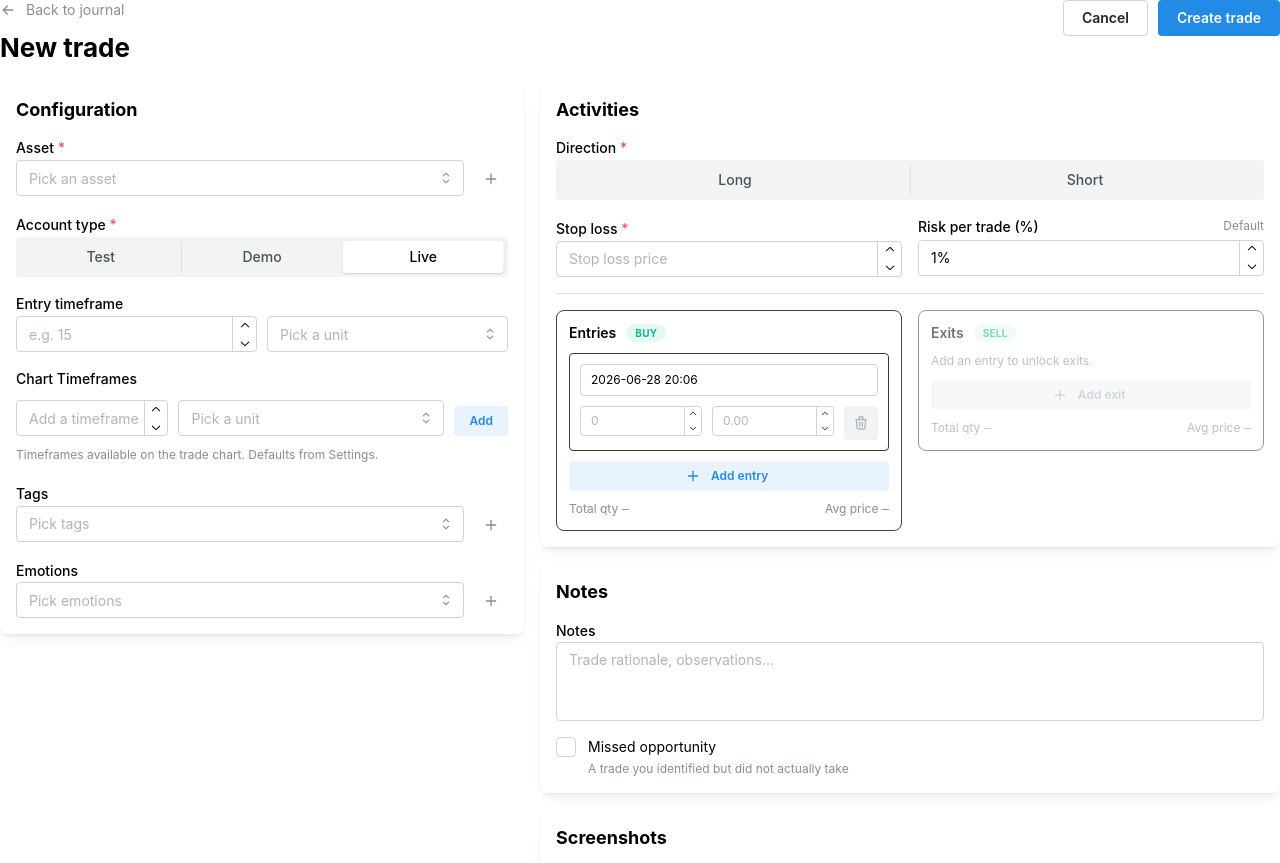
TradeFormPage — inline reference-data creation › creates an emotion inline and adds it to the selection
Expected: the heading "New trade" is shown, [0,30,130,65]
Step 1. Click the button named "Add emotion" → (491, 601), box [474,584,508,618]
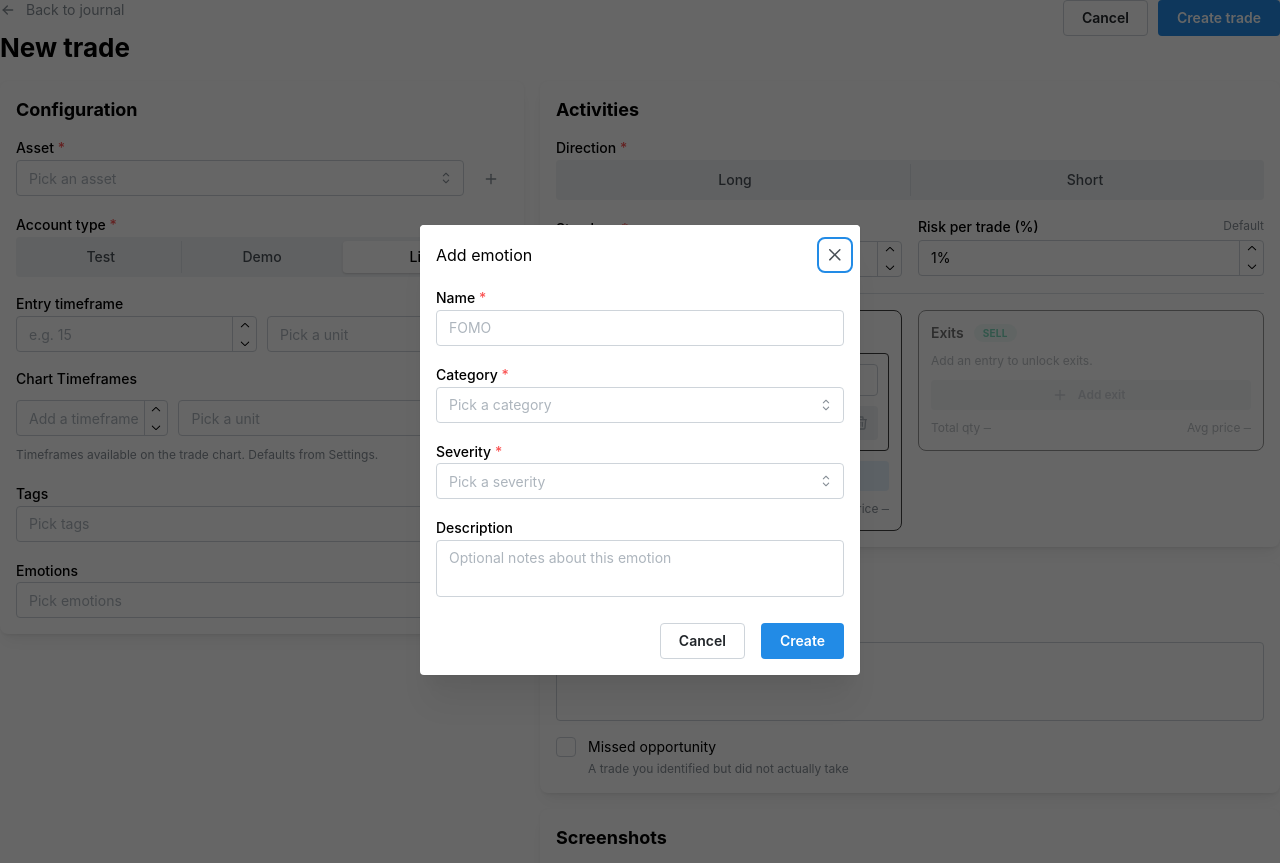
Step 2. Type "Revenge" into the field labelled "Name" → (640, 328), box [436,310,844,346]
Step 3. Click the field with placeholder "Pick a category" → (640, 404), box [436,386,844,422]
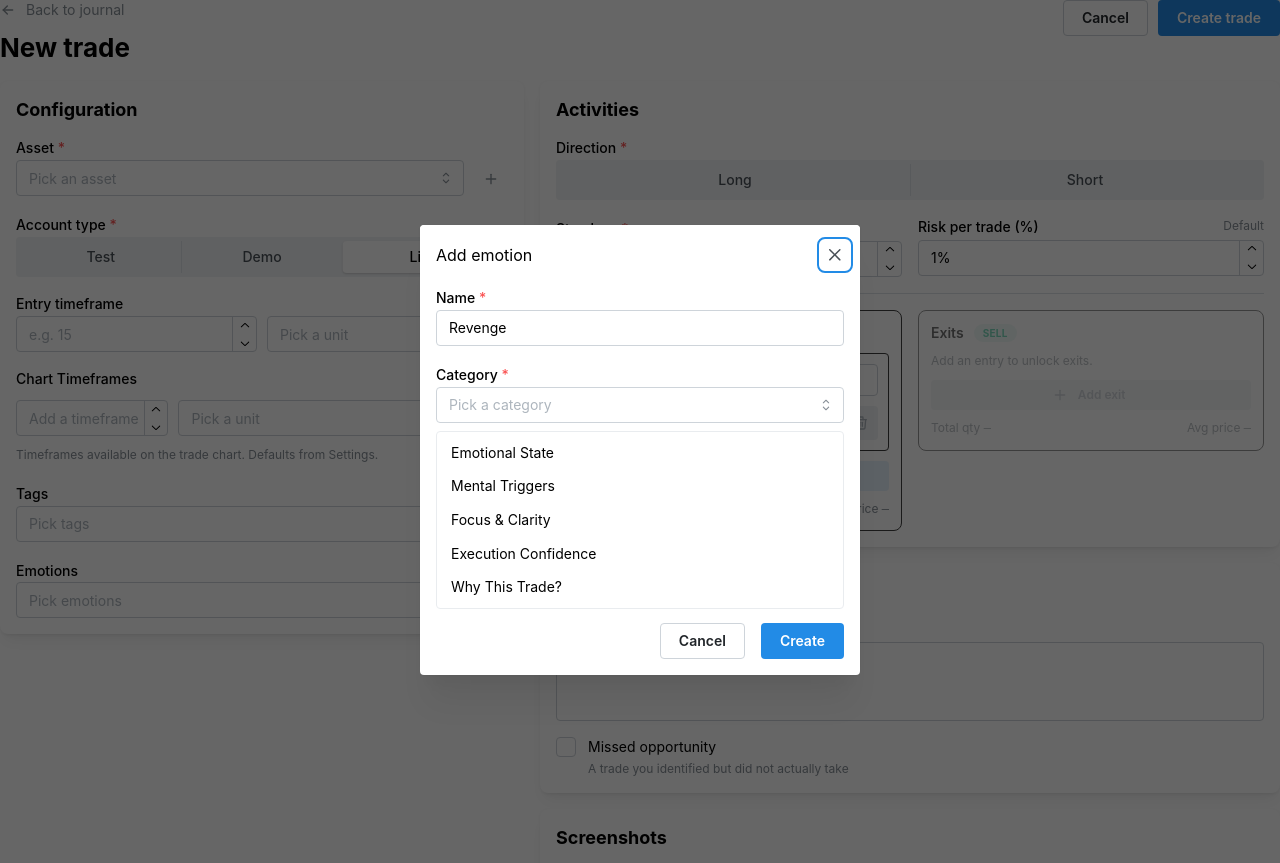
Step 4. Click the option "Mental Triggers" → (503, 486), box [451,477,555,494]
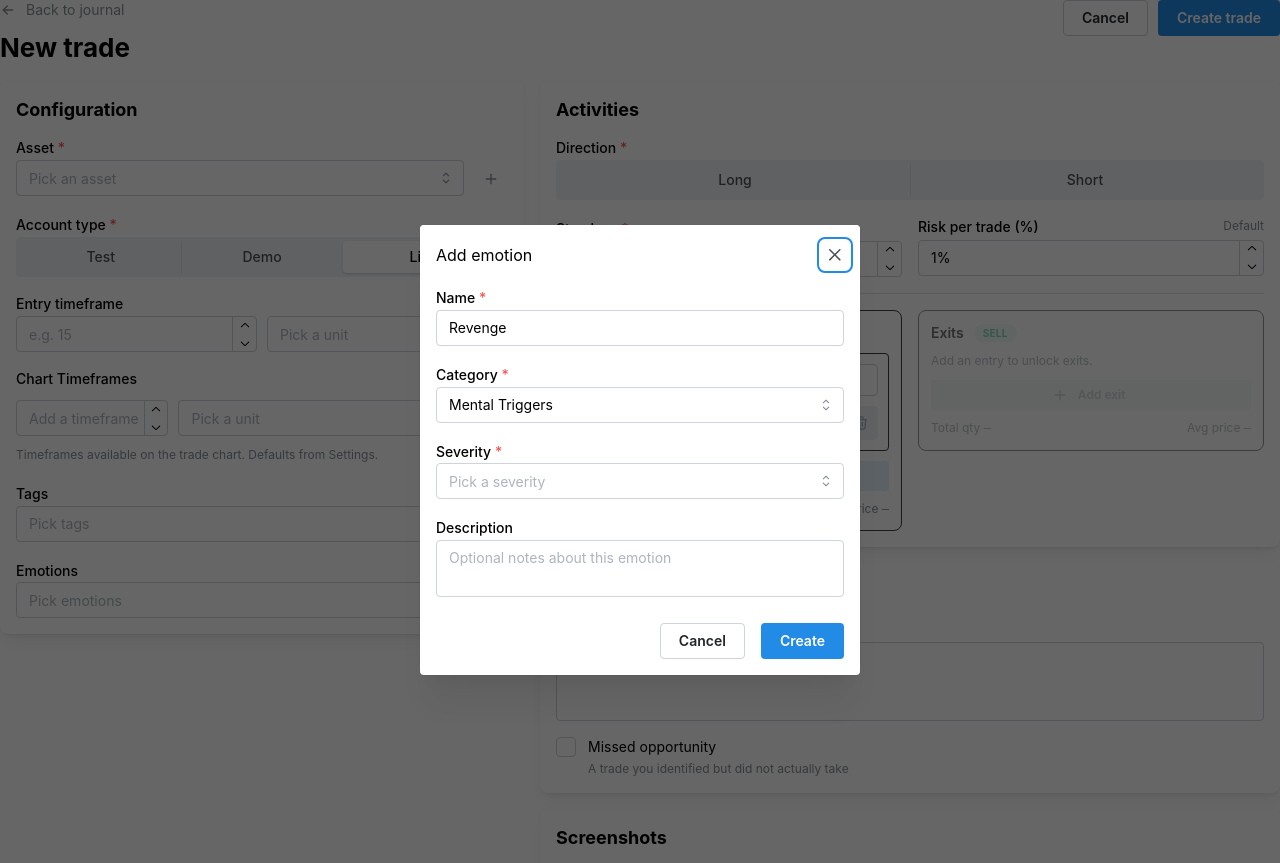
Step 5. Click the field with placeholder "Pick a severity" → (640, 481), box [436,463,844,499]
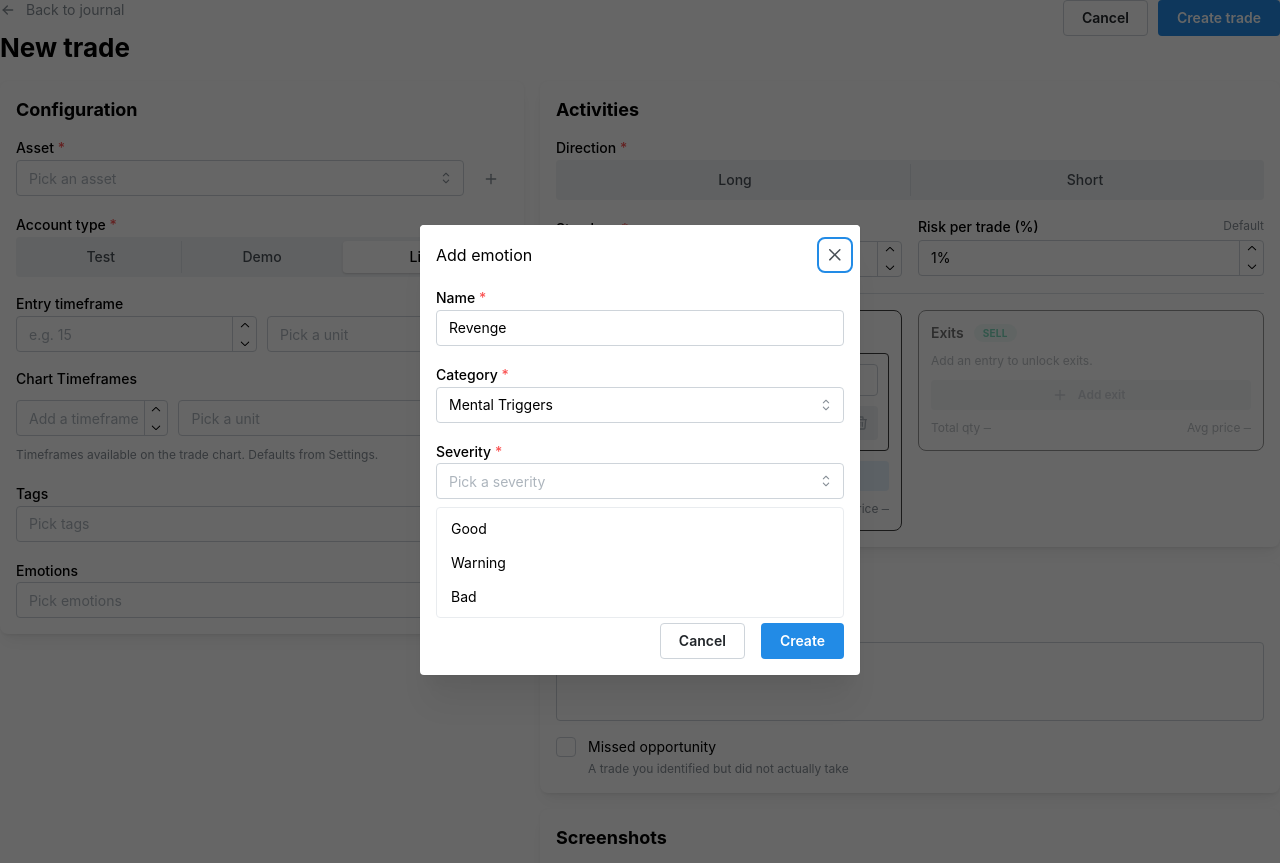
Step 6. Click the option "Bad" → (464, 596), box [451,588,477,605]
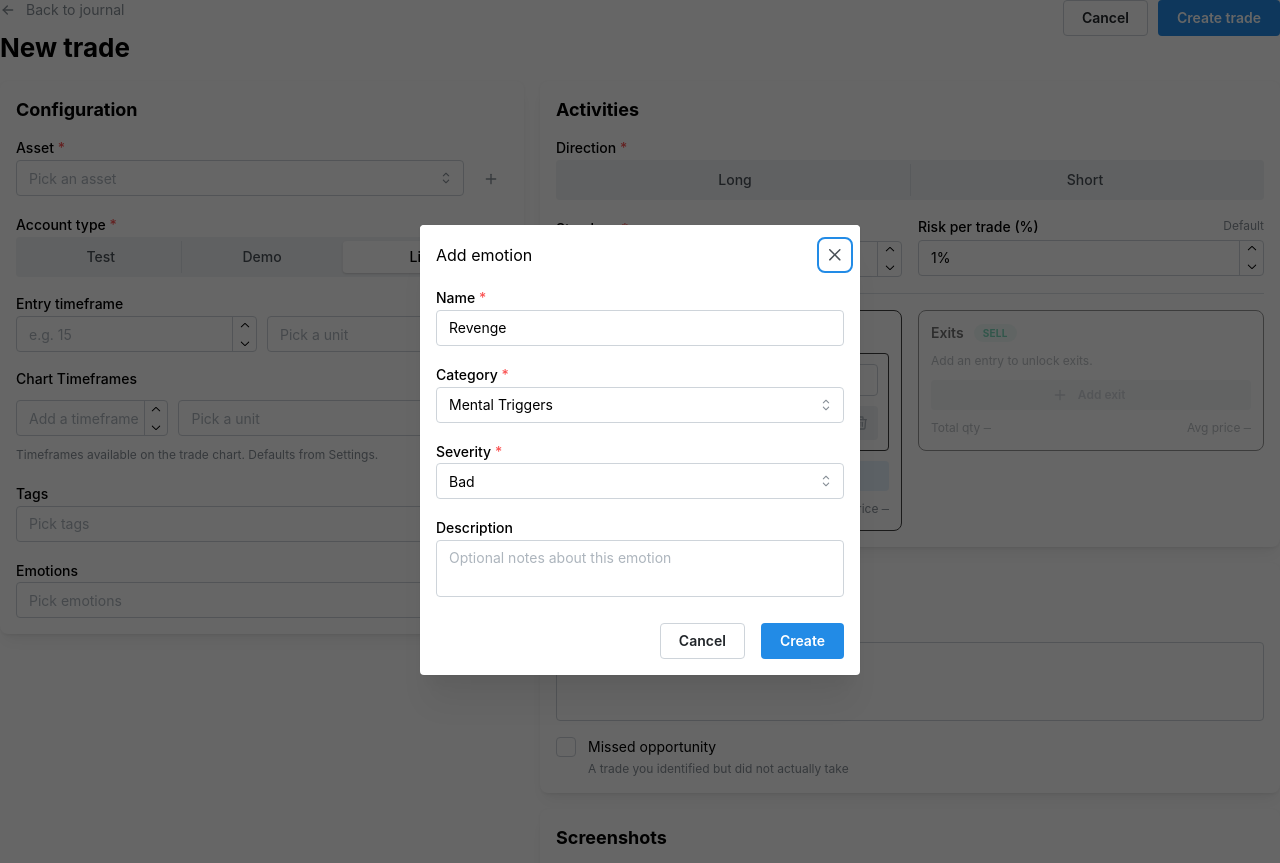
Step 7. Click the button "Create" → (802, 641), box [761,623,844,659]
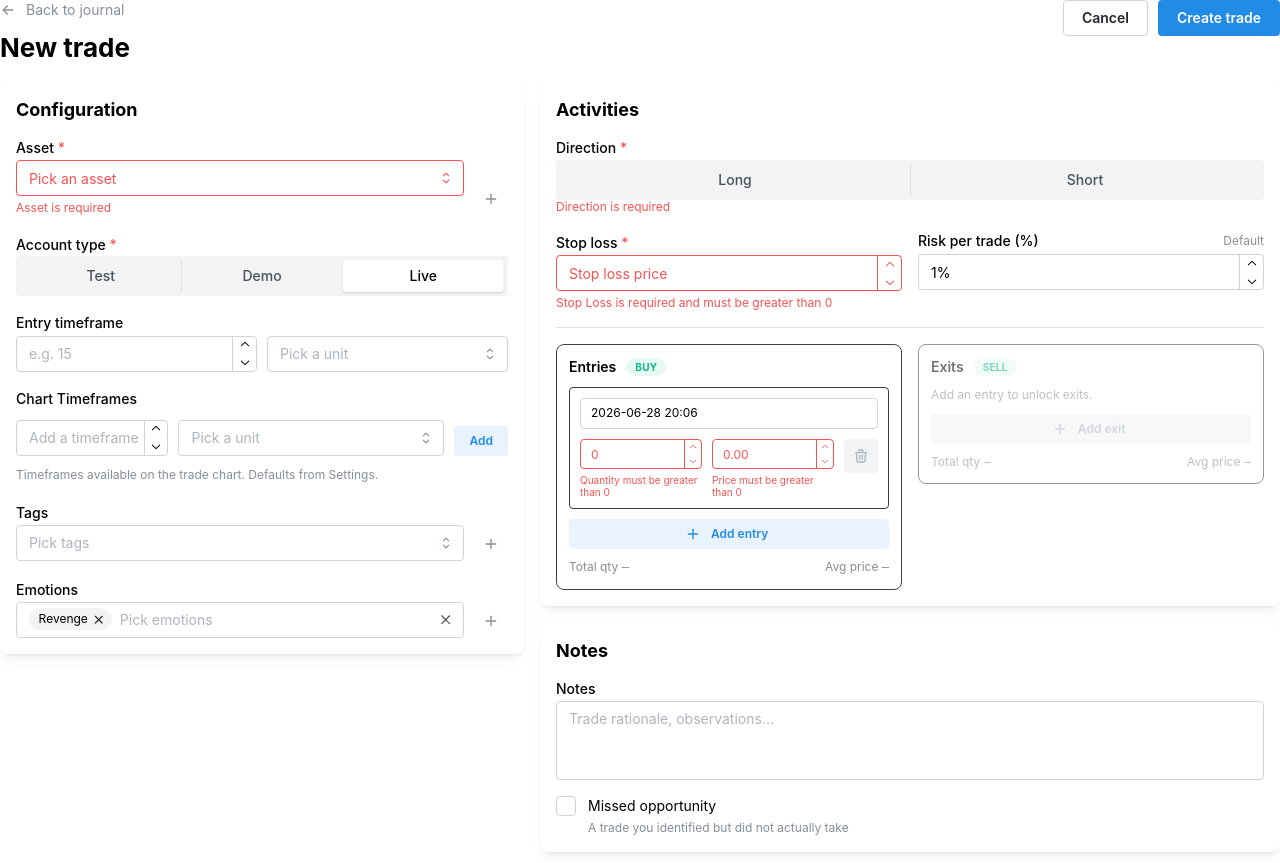
Expected: the dialog is gone
Expected: the text "Revenge" is shown, [39,608,88,630]
